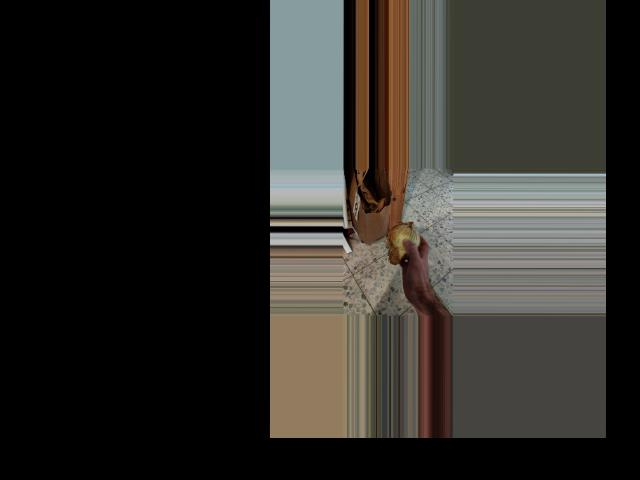onion: (384, 219, 422, 266)
